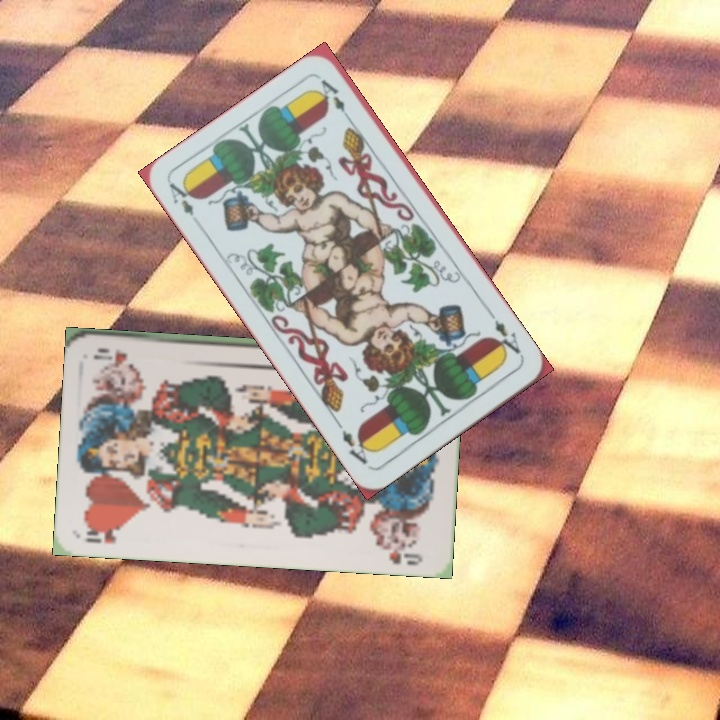EA: (486, 309, 526, 360), (165, 178, 199, 220)
HO: (81, 521, 128, 547)
